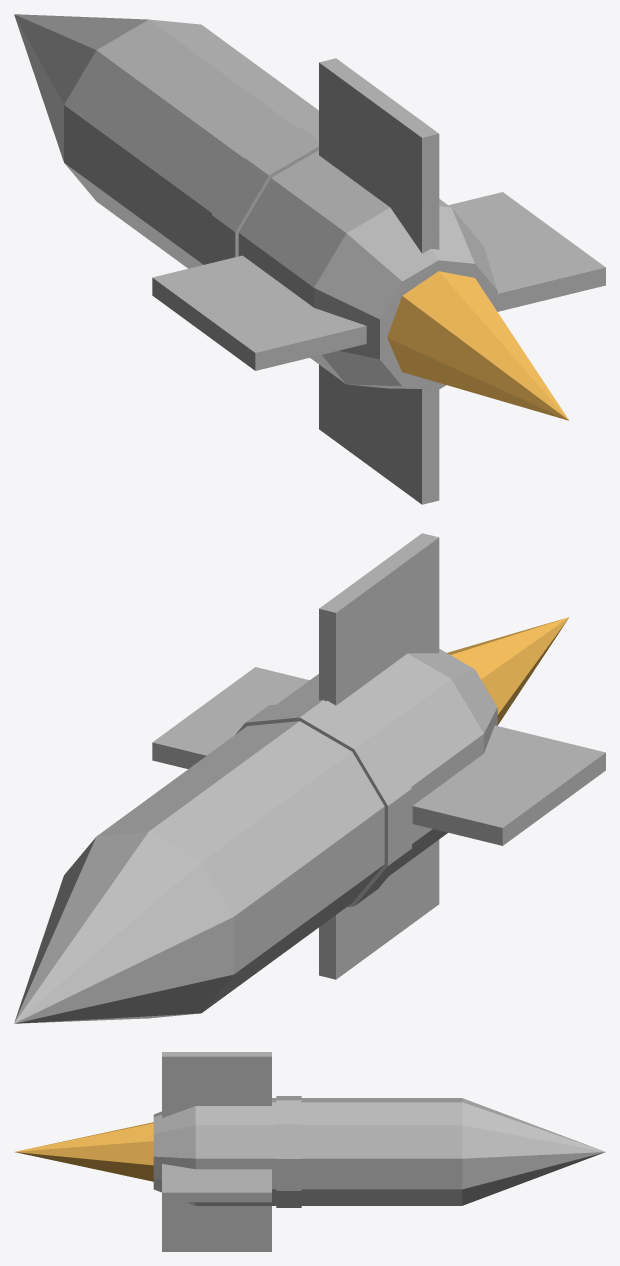
The model's file is rocket.fbx.
3 views of the same model, one above another, from view 1: azimuth 30°, elevation 25°; view 2: azimuth 150°, elevation 25°; view 3: azimuth 270°, elevation 25° (orthographic). The views are drawn at different scales.
Parts seen in each view (by area): view 1: rocket; view 2: rocket; view 3: rocket.
Boxes of the visible parts, x1,y1,x2,y2 form: rocket: (14,14,605,504); rocket: (14,533,605,1023); rocket: (15,1052,605,1251).
Bounding box in the file's own units: 0.51 × 0.51 × 1.4.
